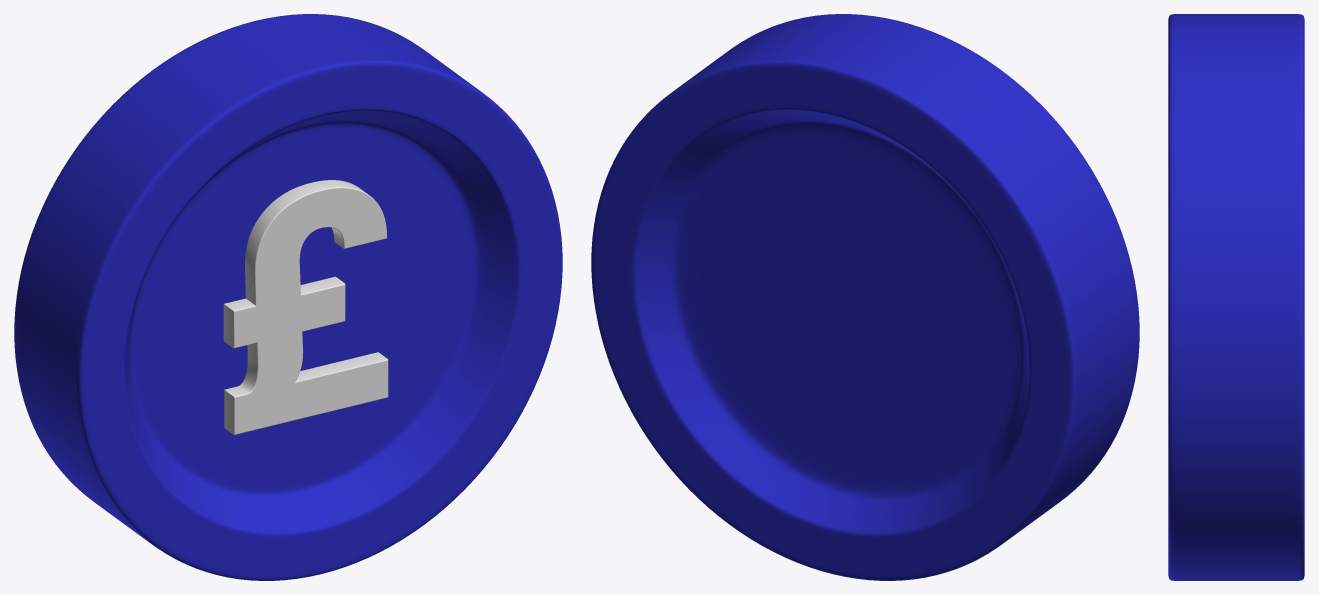
The model's file is pound.fbx.
3 views of the same model, side by side, from view 1: azimuth 30°, elevation 25°; view 2: azimuth 150°, elevation 25°; view 3: azimuth 270°, elevation 25° (orthographic).
Visible parts, largest first — view 1: Pound; view 2: Pound; view 3: Pound.
Part boxes in pixels (x1,y1,x2,y2): Pound: [14, 14, 562, 580]; Pound: [591, 14, 1139, 580]; Pound: [1168, 14, 1304, 580].
Bounding box in the file's own units: 186 × 186 × 44.8.
